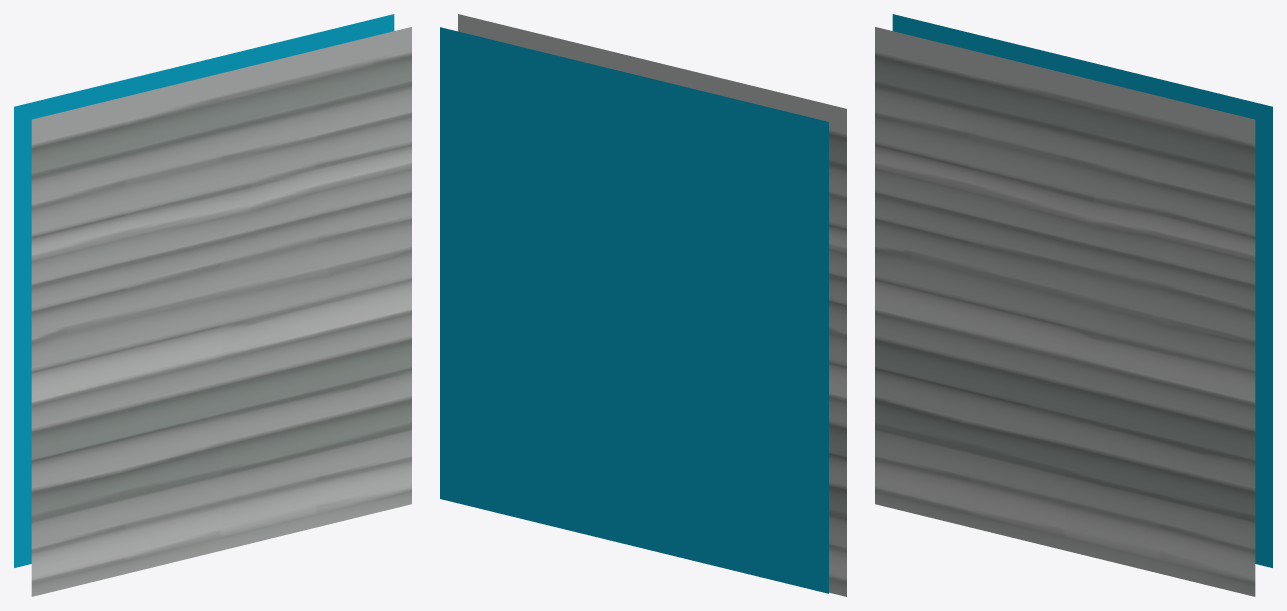
The model's file is SM_Bld_House_ExteriorWall_UpperFloor_01.fbx.
The picture shows the model from 3 angles, left to right: view 1: azimuth 30°, elevation 25°; view 2: azimuth 150°, elevation 25°; view 3: azimuth 330°, elevation 25°; orthographic projection. The views are drawn at different scales.
Parts seen in each view (by area): view 1: SM_Bld_House_ExteriorWall_UpperFloor_01; view 2: SM_Bld_House_ExteriorWall_UpperFloor_01; view 3: SM_Bld_House_ExteriorWall_UpperFloor_01.
Part boxes in pixels (x1,y1,x2,y2): SM_Bld_House_ExteriorWall_UpperFloor_01: [14, 14, 411, 596]; SM_Bld_House_ExteriorWall_UpperFloor_01: [440, 14, 846, 596]; SM_Bld_House_ExteriorWall_UpperFloor_01: [875, 14, 1272, 596].
Bounding box in the file's own units: 250 × 300 × 20.
